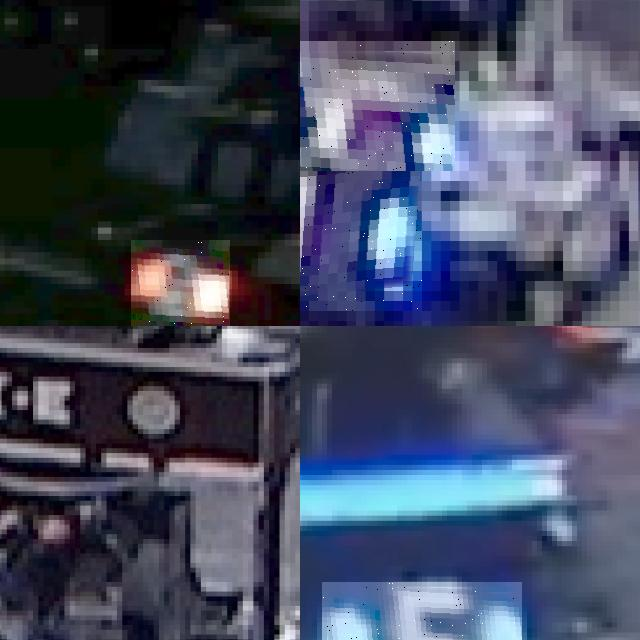B1: (300, 41, 455, 171), (300, 171, 421, 311)
B5: (322, 581, 522, 640)
Rs: (131, 239, 231, 326)
